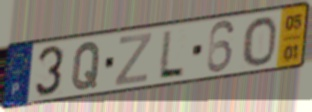3: (33, 43, 68, 99)
6: (206, 18, 237, 75)
L: (156, 28, 187, 79)
O: (241, 15, 279, 68)
Q: (70, 40, 103, 92)
Z: (113, 30, 154, 88)
